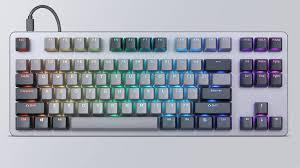keyboard: (8, 30, 288, 137)
